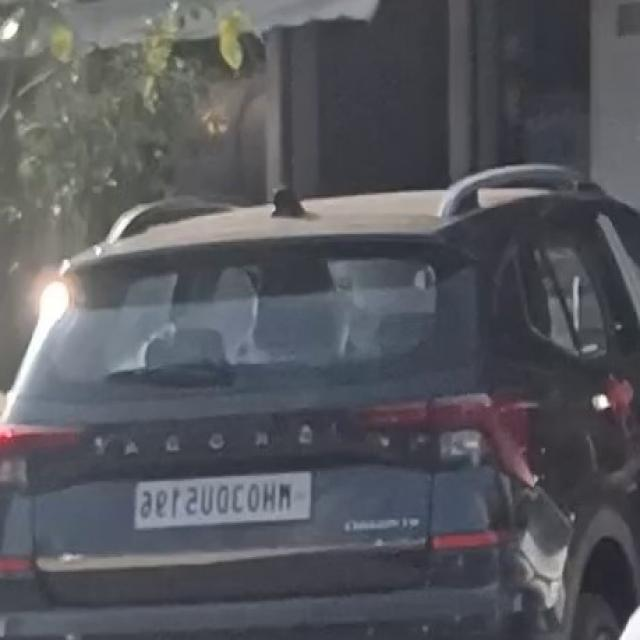license_plate: (128, 465, 322, 539)
